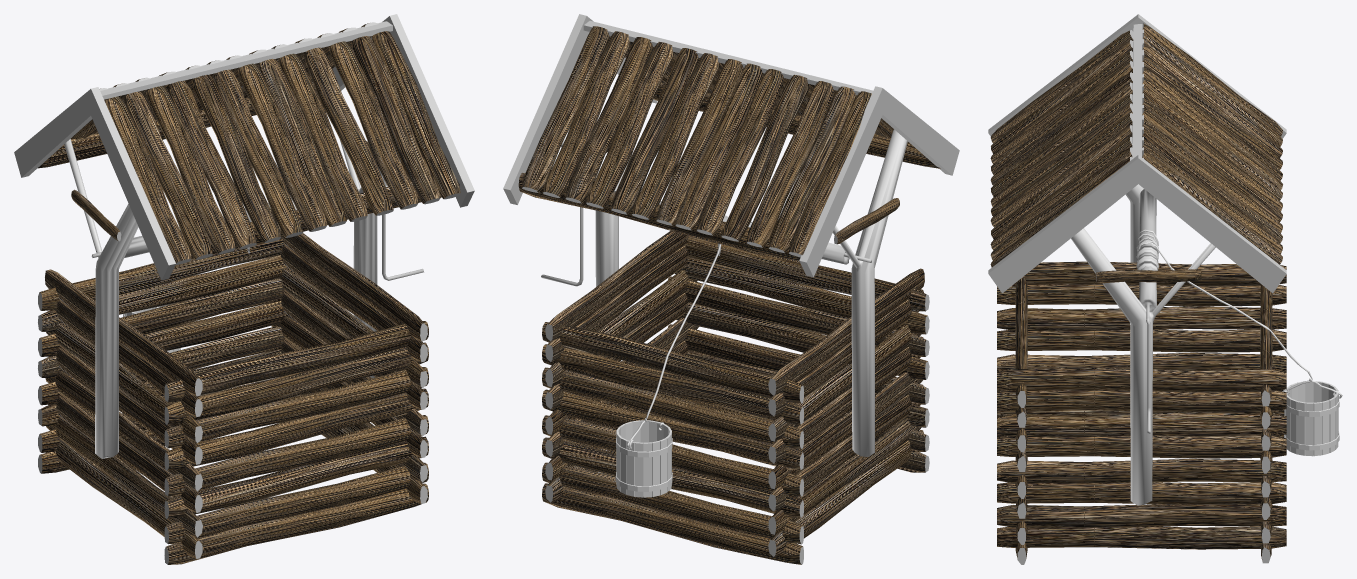
Rendered from Well.fbx.
3 renders of one model, left to right at view 1: azimuth 30°, elevation 25°; view 2: azimuth 150°, elevation 25°; view 3: azimuth 270°, elevation 25°, orthographic. The views are drawn at different scales.
Parts seen in each view (by area): view 1: Cube, Cylinder.024, Cylinder.011, Cylinder.014, Cylinder.012, Cylinder.009, Cylinder.008, Cylinder.007, Cylinder.010, Cylinder.013, Cylinder.000, Cylinder.037 (+38 smaller); view 2: Cube, Cylinder.024, Cylinder.017, Cylinder.002, Cylinder.000, Cylinder.006, Cylinder.005, Cylinder.001, Cylinder.004, Cylinder.014, Cylinder.007, Cylinder.049 (+39 smaller); view 3: Cube, Cylinder.026, Cylinder.057, Cylinder.063, Cylinder.134, Cylinder.058, Cylinder.060, Cylinder.059, Cylinder.061, Cylinder.019, Cylinder.020, Cylinder.062 (+38 smaller).
Boxes of the visible parts, bbox=[...] form: Cube: bbox=[14, 14, 474, 280]; Cylinder.024: bbox=[64, 139, 138, 458]; Cylinder.011: bbox=[164, 415, 428, 496]; Cylinder.014: bbox=[164, 321, 428, 402]; Cylinder.012: bbox=[164, 462, 428, 544]; Cylinder.009: bbox=[164, 367, 428, 448]; Cylinder.008: bbox=[164, 388, 428, 470]; Cylinder.007: bbox=[164, 342, 428, 424]; Cylinder.010: bbox=[164, 436, 428, 519]; Cylinder.013: bbox=[164, 483, 428, 564]; Cylinder.000: bbox=[38, 255, 288, 331]; Cylinder.037: bbox=[303, 47, 393, 215]; Cube: bbox=[503, 14, 959, 277]; Cylinder.024: bbox=[832, 129, 907, 456]; Cylinder.017: bbox=[542, 322, 803, 403]; Cylinder.002: bbox=[542, 367, 803, 449]; Cylinder.000: bbox=[542, 344, 803, 424]; Cylinder.006: bbox=[542, 483, 803, 564]; Cylinder.005: bbox=[542, 462, 803, 544]; Cylinder.001: bbox=[542, 389, 803, 470]; Cylinder.004: bbox=[542, 415, 803, 496]; Cylinder.014: bbox=[685, 236, 929, 311]; Cylinder.007: bbox=[674, 257, 929, 334]; Cylinder.049: bbox=[721, 74, 808, 241]; Cube: bbox=[988, 14, 1286, 293]; Cylinder.026: bbox=[1071, 228, 1215, 505]; Cylinder.057: bbox=[997, 504, 1286, 527]; Cylinder.063: bbox=[997, 367, 1286, 392]; Cylinder.134: bbox=[997, 526, 1286, 549]; Cylinder.058: bbox=[997, 459, 1286, 483]; Cylinder.060: bbox=[997, 412, 1286, 436]; Cylinder.059: bbox=[997, 482, 1286, 504]; Cylinder.061: bbox=[997, 435, 1286, 458]; Cylinder.019: bbox=[997, 306, 1286, 330]; Cylinder.020: bbox=[997, 329, 1286, 352]; Cylinder.062: bbox=[997, 390, 1286, 412].
Bounding box in the file's own units: 6 × 7.45 × 5.63.
127 materials, 62 textured.
